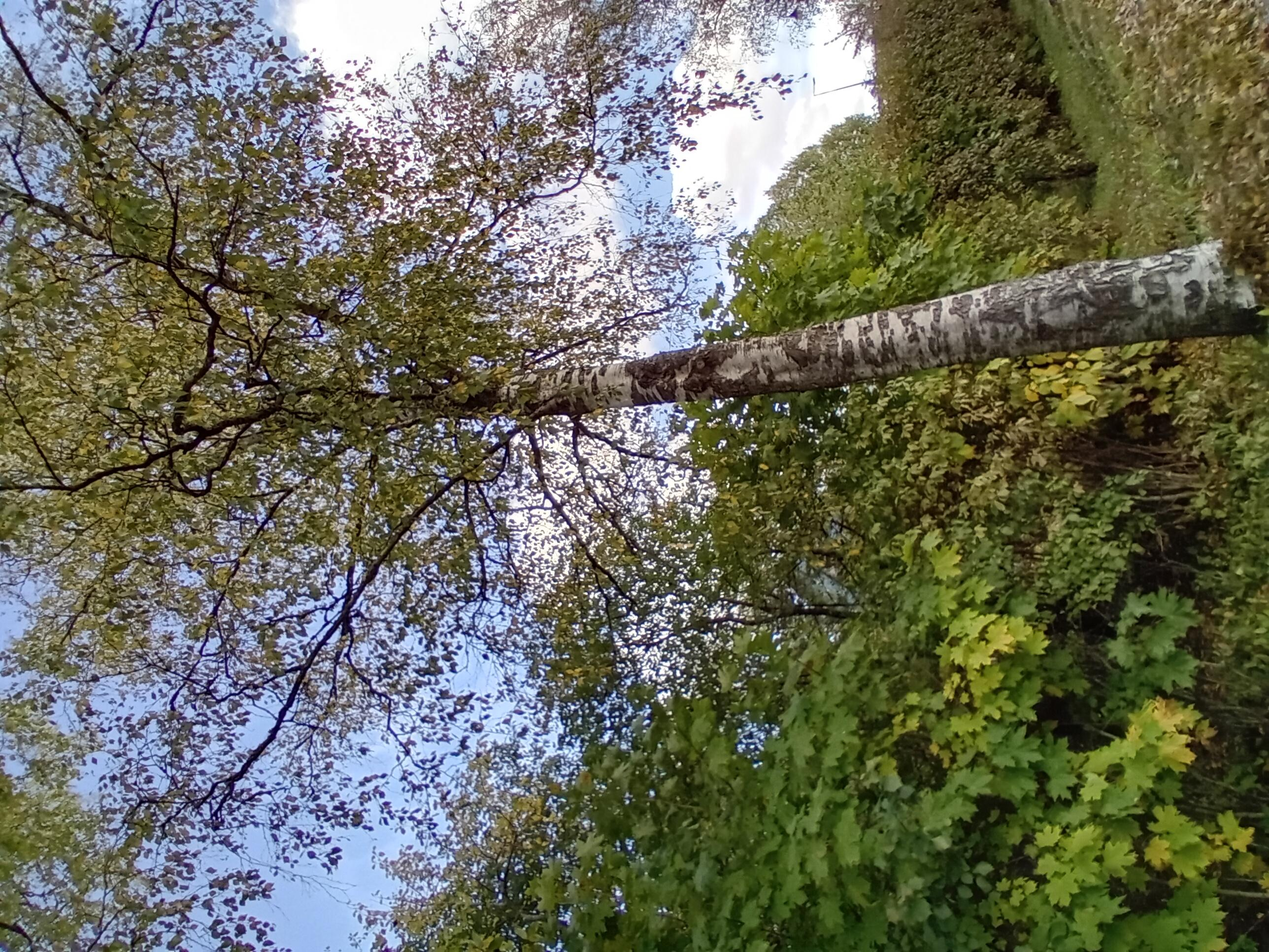Birch: (3, 1, 1266, 948), (283, 11, 1169, 939)
